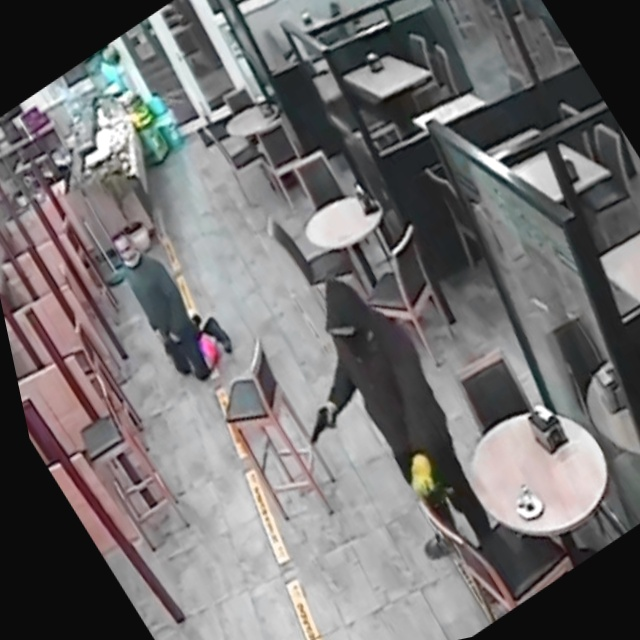gun: (282, 384, 359, 467)
